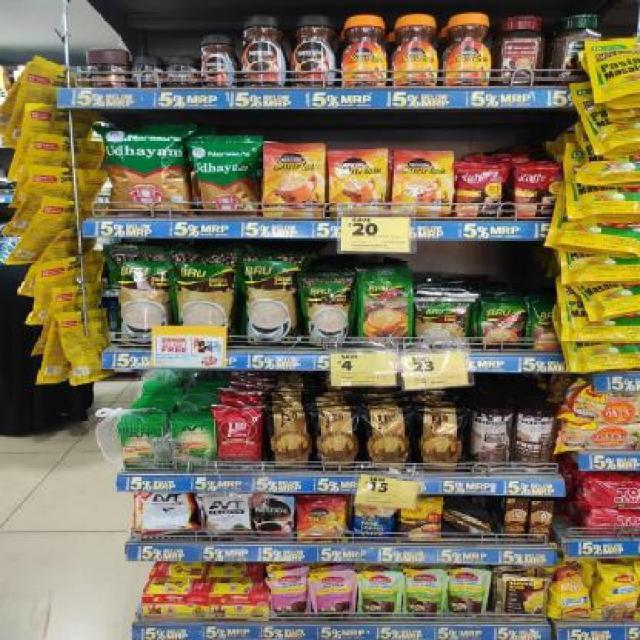Coffee: (264, 144, 324, 216), (393, 152, 454, 218), (328, 152, 386, 218), (241, 16, 287, 88), (443, 14, 489, 85), (290, 16, 336, 87), (393, 17, 437, 86), (342, 17, 386, 85), (297, 500, 344, 542), (201, 35, 238, 87), (253, 496, 294, 538), (131, 58, 162, 88), (166, 57, 197, 85)
